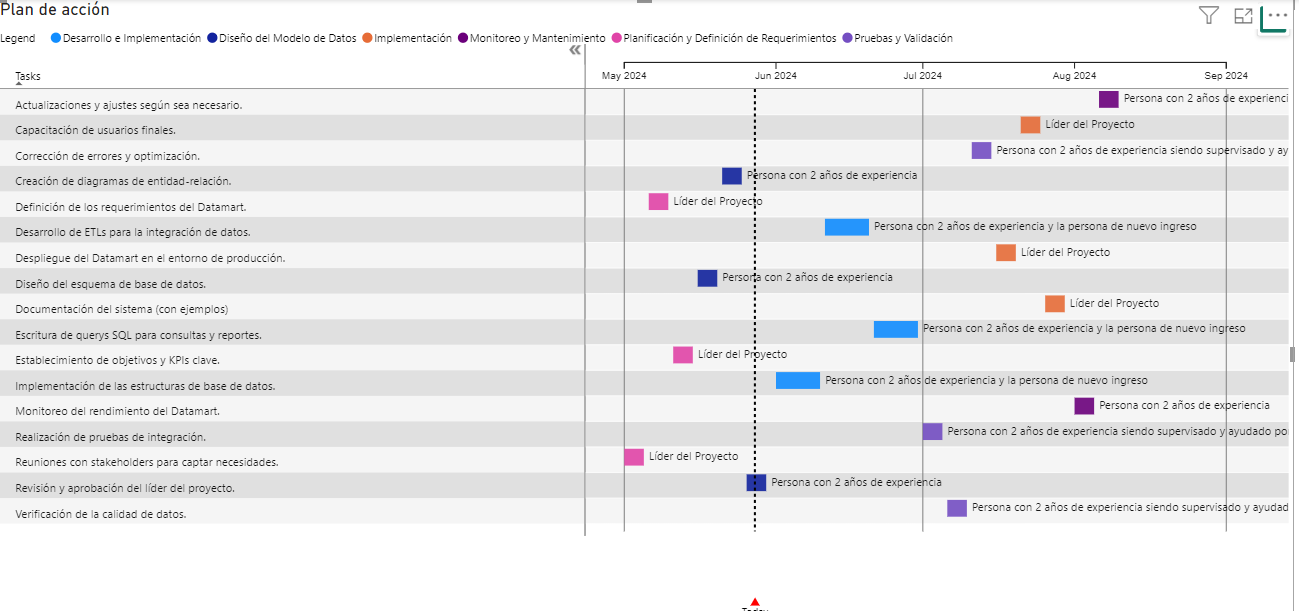

What the dashboard file says about the page in this screenshot:
{"tool":"powerbi","page":{"name":"Página 1","canvas":[1280,720],"ordinal":0},"visuals":[{"type":"GanttChartByMAQSoftware1448688115701","title":"Plan de acción","fields":{"Category":["Plan de accion (2).Tasks"],"Legend":["Plan de accion (2).Phase"],"StartDate":["Min(Plan de accion (2).Start Date)"],"EndDate":["Min(Plan de accion (2).End Date)"],"Resource":["Min(Plan de accion (2).Responsible)"]},"box":[0,0,1270.5,695.8],"z":0}]}

Visuals, with their boxes on the page's 1280x720 design canvas (x1, y1, x2, y2). These are canvas units, not pixel positions in the 1299x611 screenshot, which may show the page scaled, cropped or inside an application window:
"Plan de acción" GanttChartByMAQSoftware1448688115701: [0,0,1270,696]
